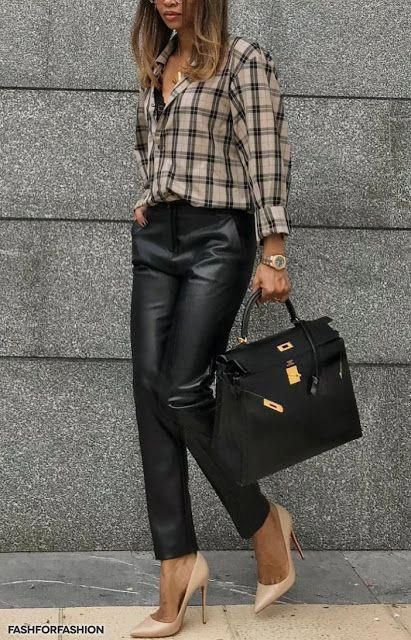cuero: (132, 201, 365, 562)
